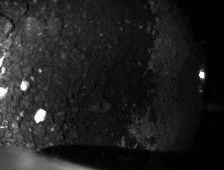corn: (31, 106, 48, 125), (18, 77, 33, 94)
